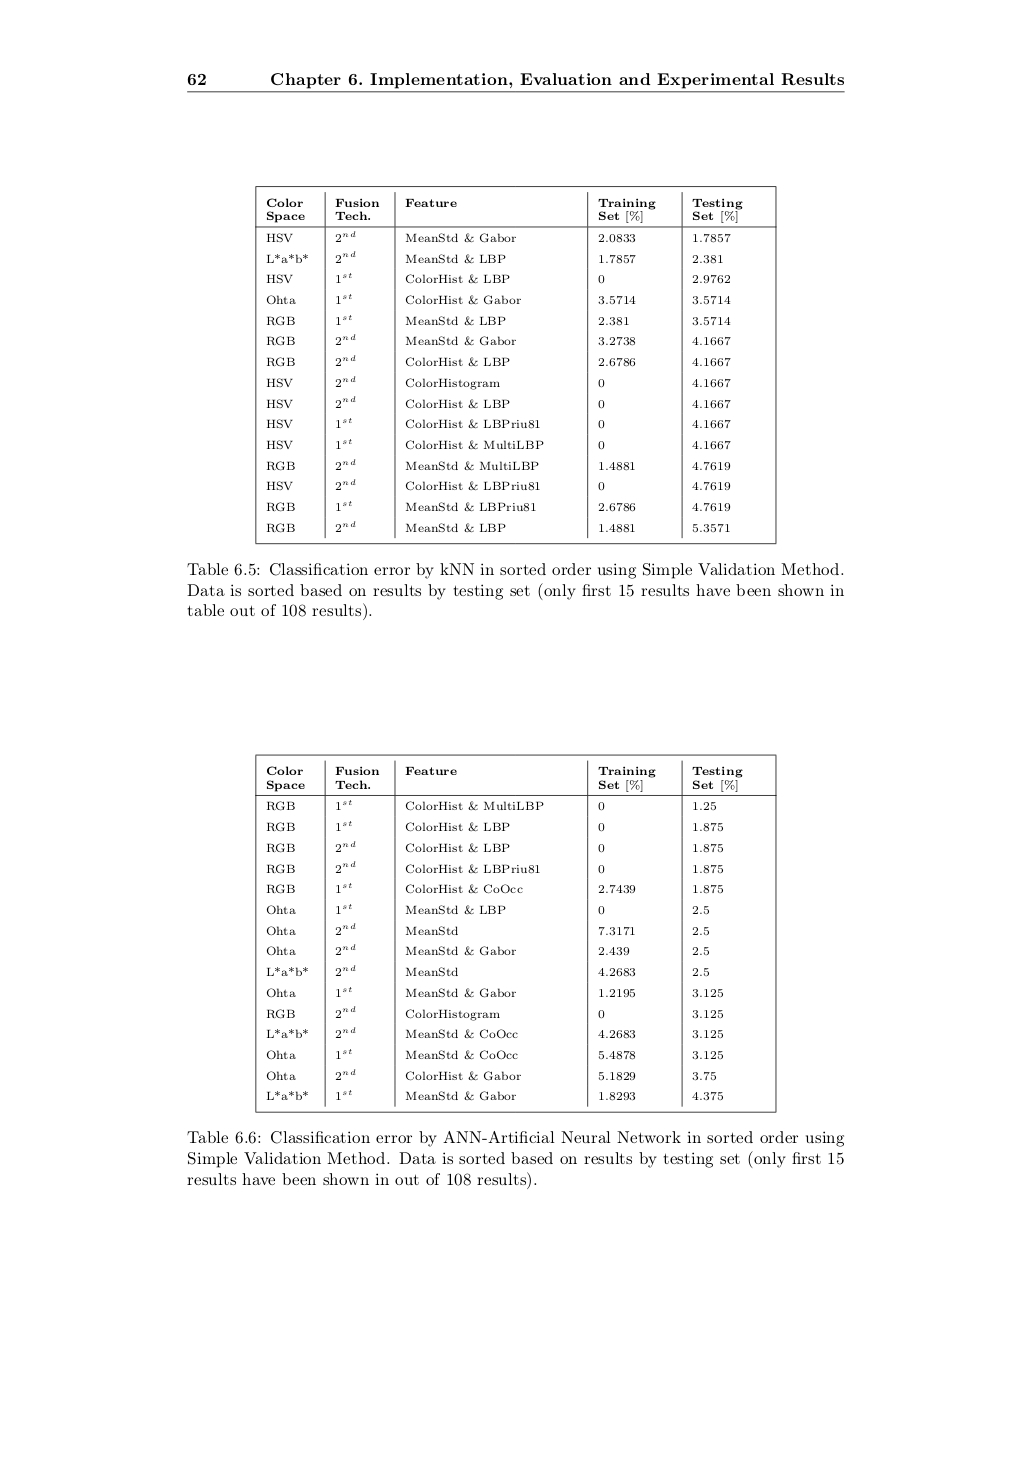Table: (256, 752, 775, 1113), (256, 185, 775, 545)
